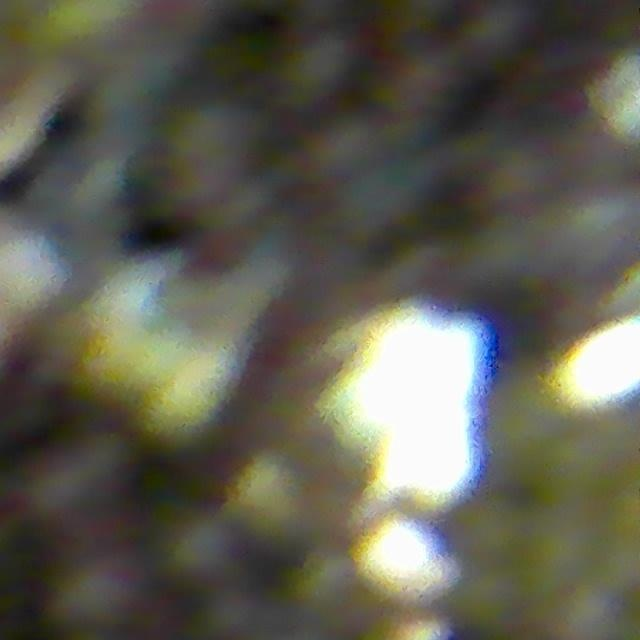SeaGrape: (56, 553, 144, 632), (167, 512, 238, 584)
